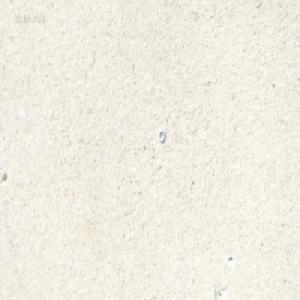Washer: (158, 128, 165, 143)
